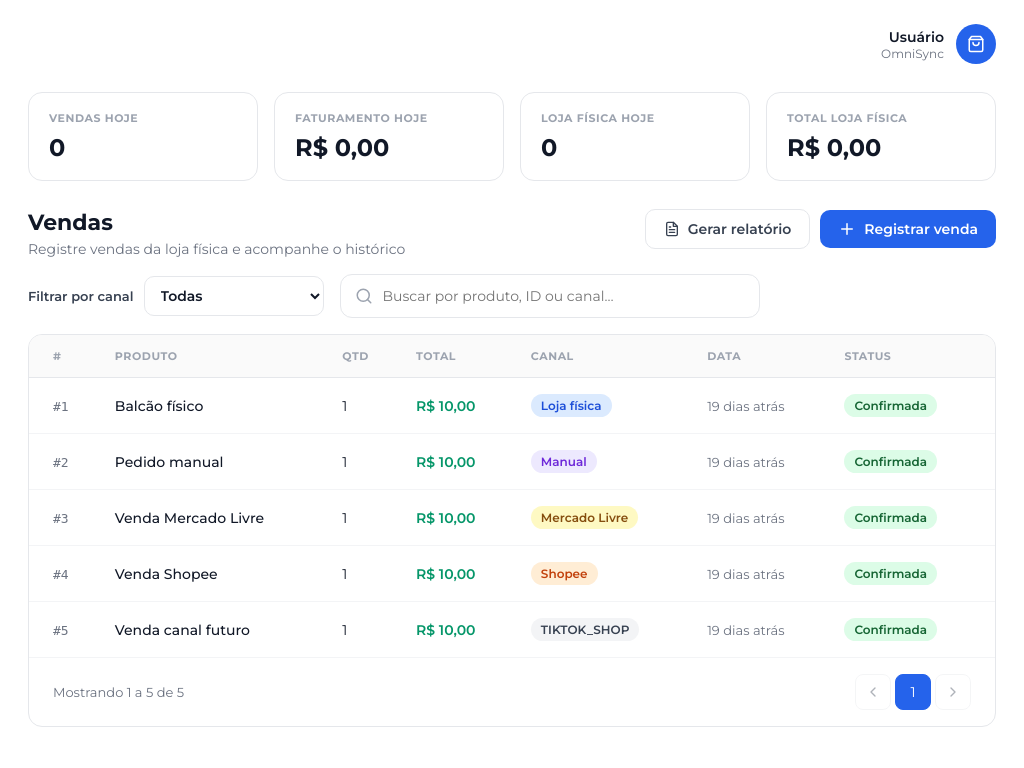
it: OrdersScreen channel filter › combines the channel filter with search
Select "Loja física" in the dropdown labelled "Filtrar por canal" at x=234, y=296, box [144, 276, 324, 316]
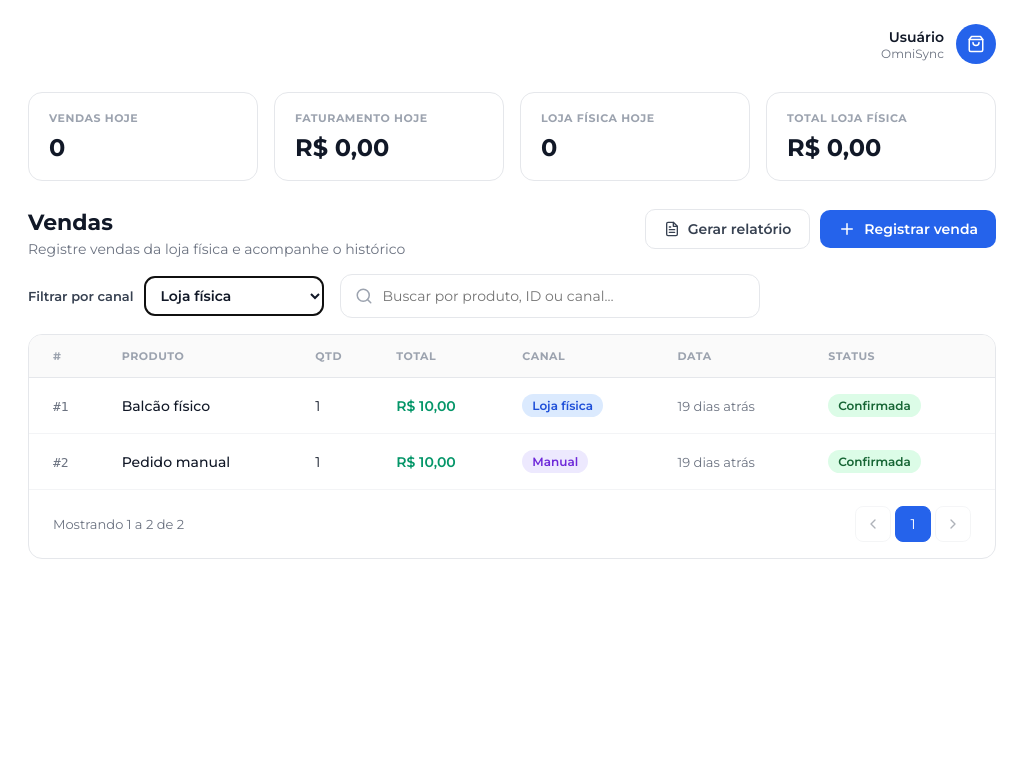
Type "loja fisica" into the search field named "Buscar vendas".
click(564, 296); type("loja fisica")  # box [382, 275, 744, 317]
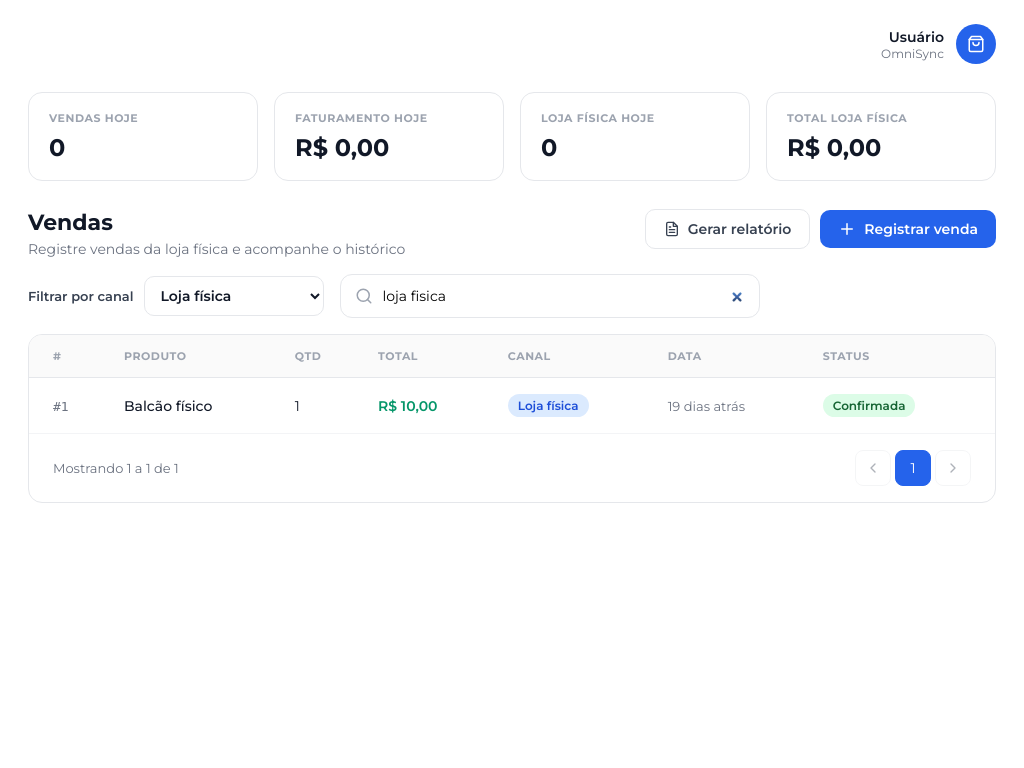
Expected: the text "Balcão físico" is shown, [124, 396, 212, 414]
Expected: the text "Pedido manual" is gone
